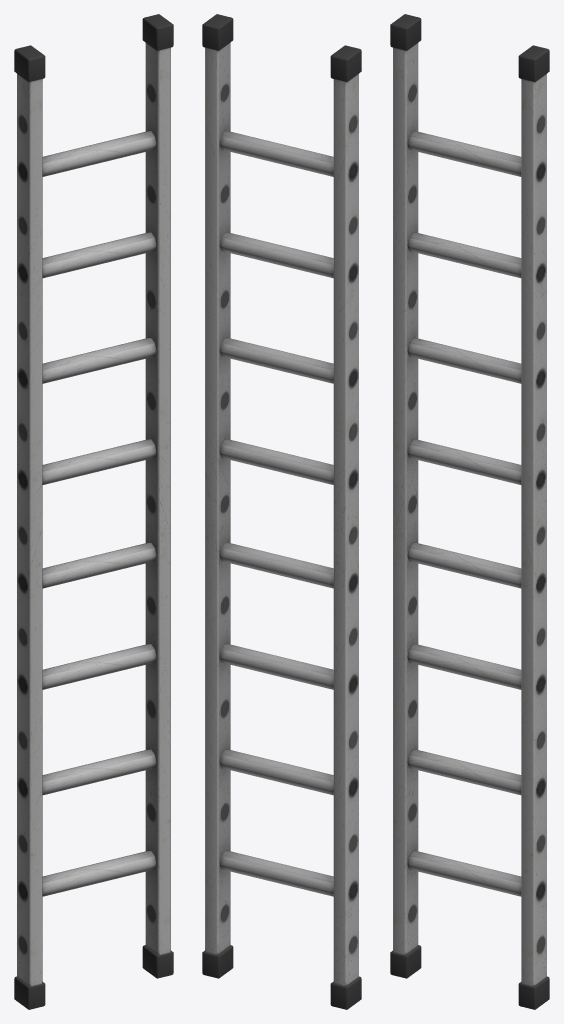
Rendered from ladder.fbx.
3 views of the same model, side by side, from view 1: azimuth 30°, elevation 25°; view 2: azimuth 150°, elevation 25°; view 3: azimuth 330°, elevation 25° (orthographic).
Visible parts, largest first — view 1: ladder; view 2: ladder; view 3: ladder.
Boxes of the visible parts, x1,y1,x2,y2 form: ladder: (14, 14, 173, 1009); ladder: (202, 14, 361, 1009); ladder: (390, 14, 549, 1009).
Size of the model in its own units: 741 by 4602 by 138.
Materials: 1 (1 with a texture image).
